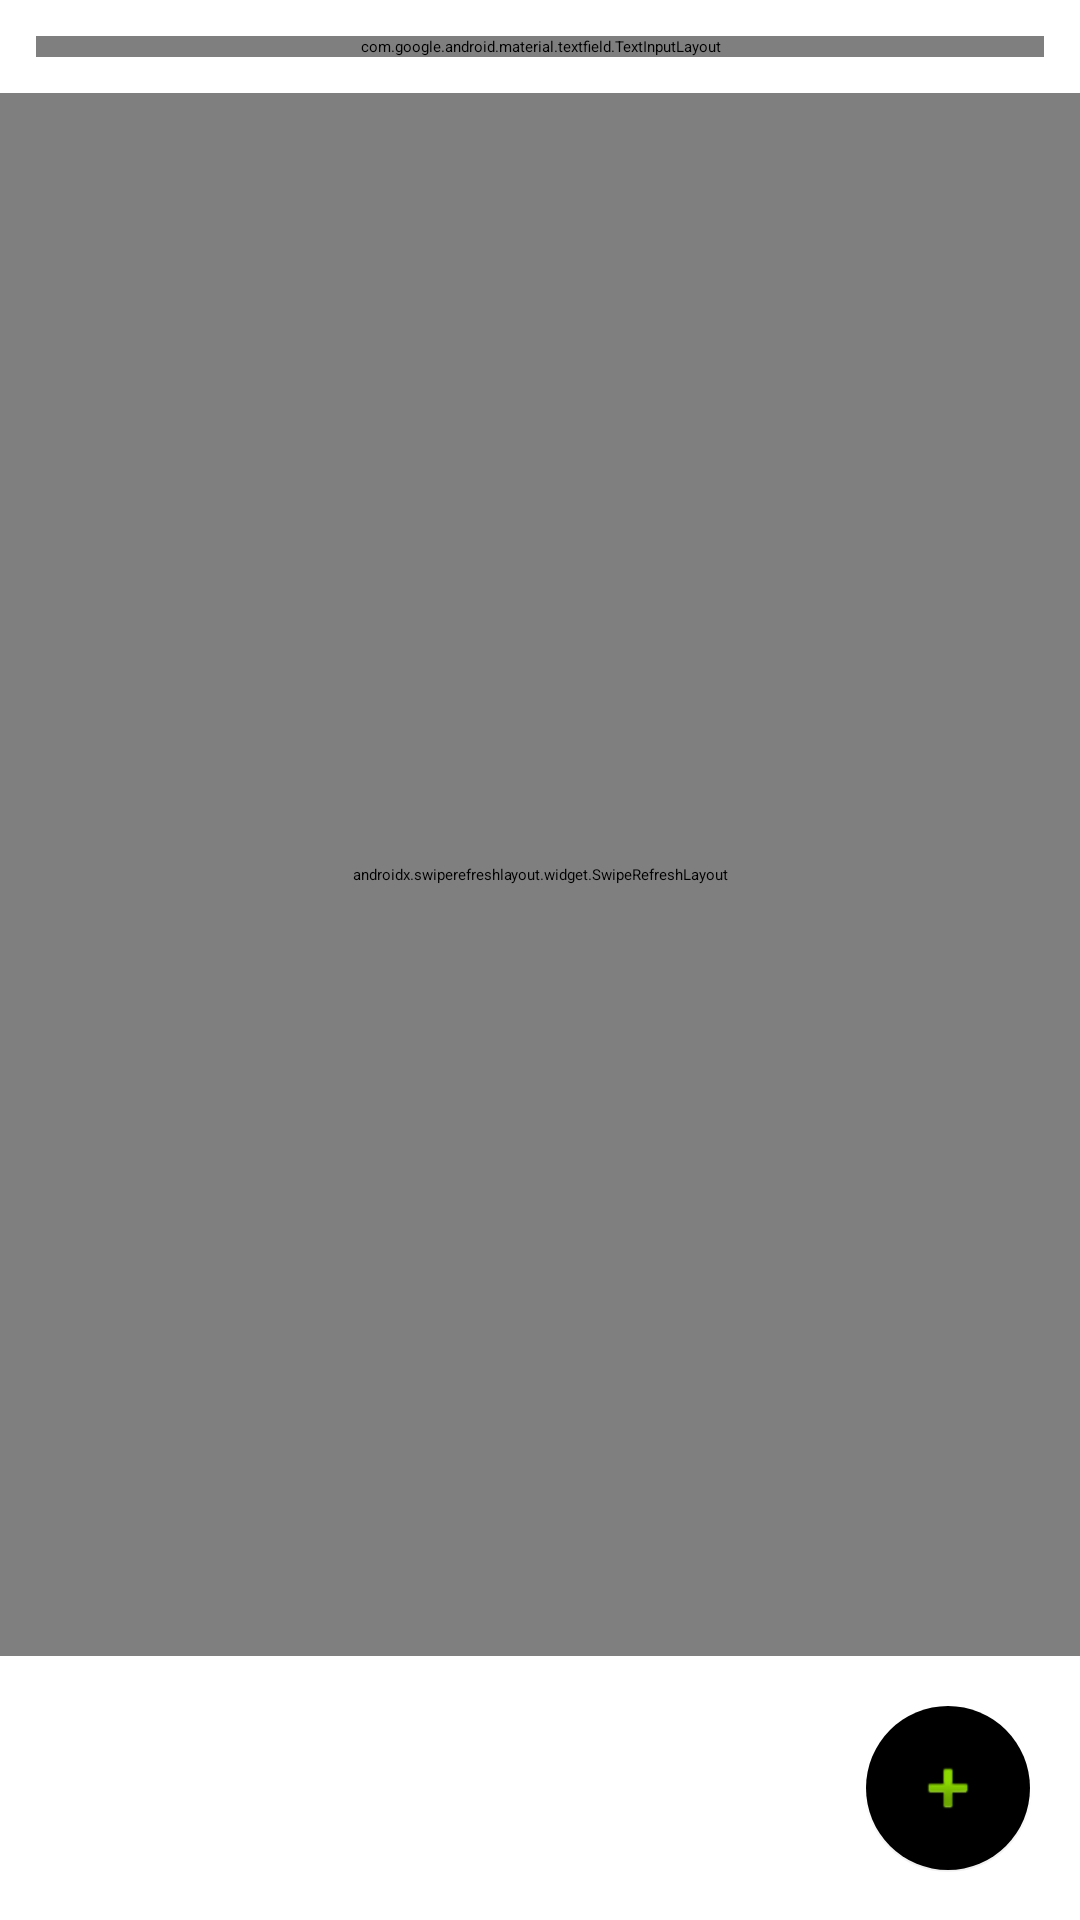

Screen size 1080px x 1920px. Icon name, then its box in pixels as (x1, y1, x2, y2):
Novo: (866, 1706, 1030, 1870)
